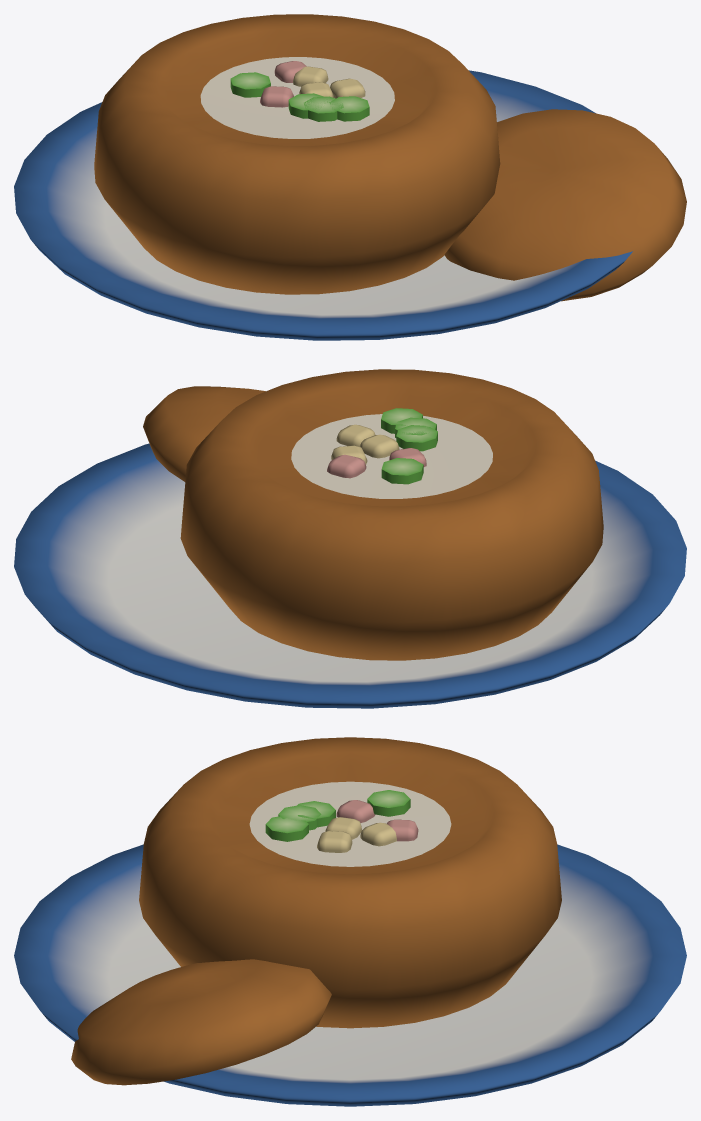
The model's file is item_dish_chowder.glb.
3 renders of one model, top to bottom at view 1: azimuth 30°, elevation 25°; view 2: azimuth 150°, elevation 25°; view 3: azimuth 270°, elevation 25°, orthographic. The views are drawn at different scales.
Visible parts, largest first — view 1: item_dish_chowder_main; view 2: item_dish_chowder_main; view 3: item_dish_chowder_main.
Part boxes in pixels (x1=…): item_dish_chowder_main: x1=14, y1=14, x2=686, y2=340; item_dish_chowder_main: x1=14, y1=369, x2=686, y2=708; item_dish_chowder_main: x1=14, y1=737, x2=686, y2=1106.
Size of the model in its own units: 0.28 by 0.0776 by 0.28.
